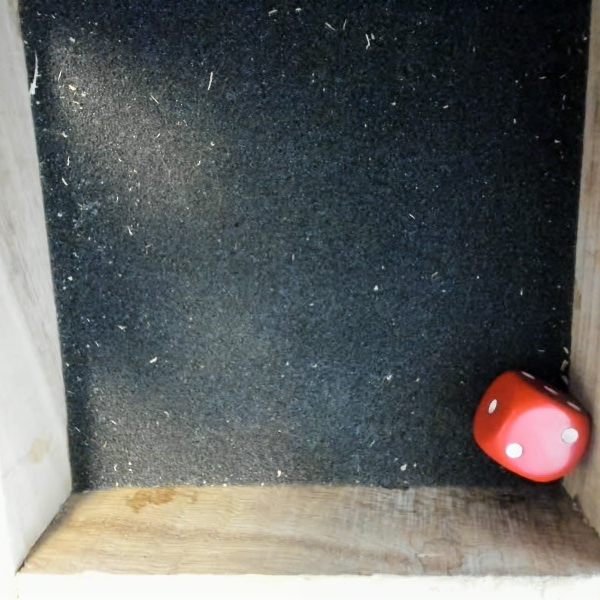red_die_pip2: (457, 354, 600, 495)
